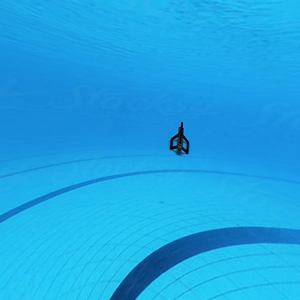submarine: (169, 124, 189, 158)
